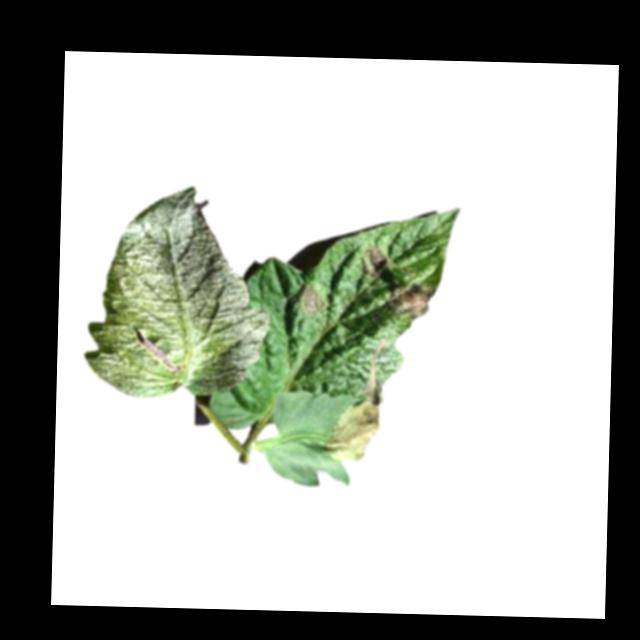Late_blight: (324, 401, 379, 463), (387, 281, 433, 317), (362, 339, 387, 404), (301, 283, 325, 313), (365, 243, 387, 273)
healthy: (84, 184, 272, 401)
